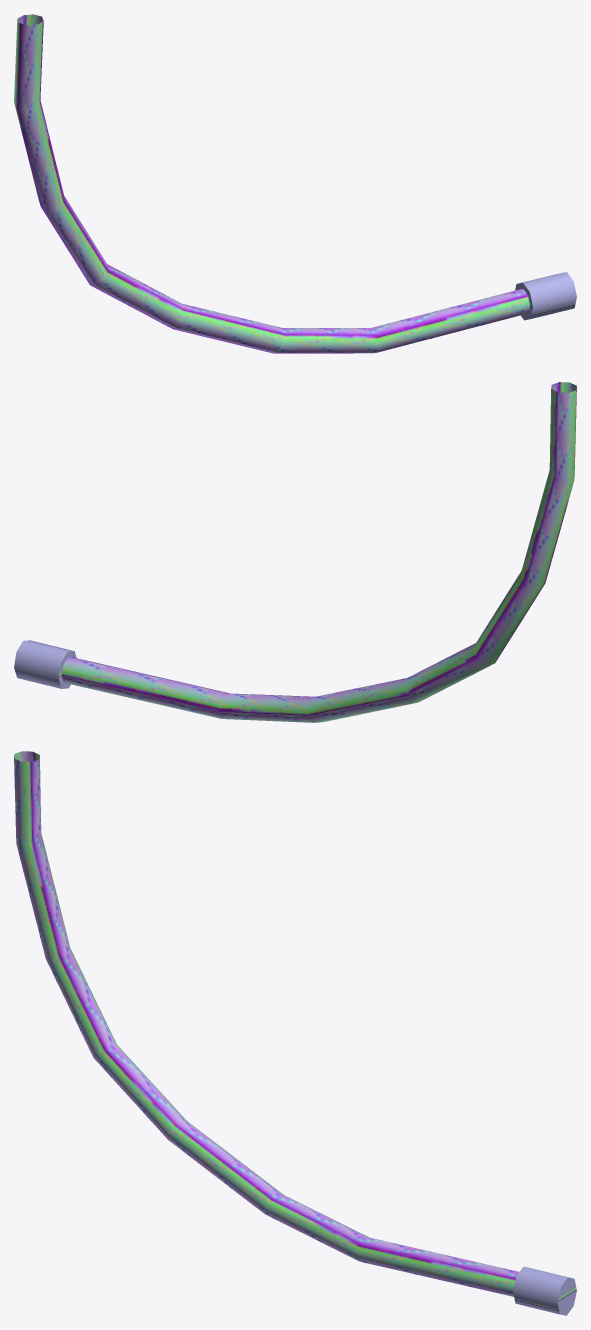
File: LitCableB2.fbx
The picture shows the model from 3 angles, top to bottom: view 1: azimuth 30°, elevation 25°; view 2: azimuth 150°, elevation 25°; view 3: azimuth 330°, elevation 25°; orthographic projection.
Visible parts, largest first — view 1: LitCableB2; view 2: LitCableB2; view 3: LitCableB2.
Boxes of the visible parts, bbox=[...] form: LitCableB2: bbox=[14, 14, 576, 353]; LitCableB2: bbox=[14, 382, 576, 722]; LitCableB2: bbox=[14, 751, 576, 1315].
Size of the model in its own units: 71.47 by 52.23 by 5.18.
Materials: 1 (1 with a texture image).
